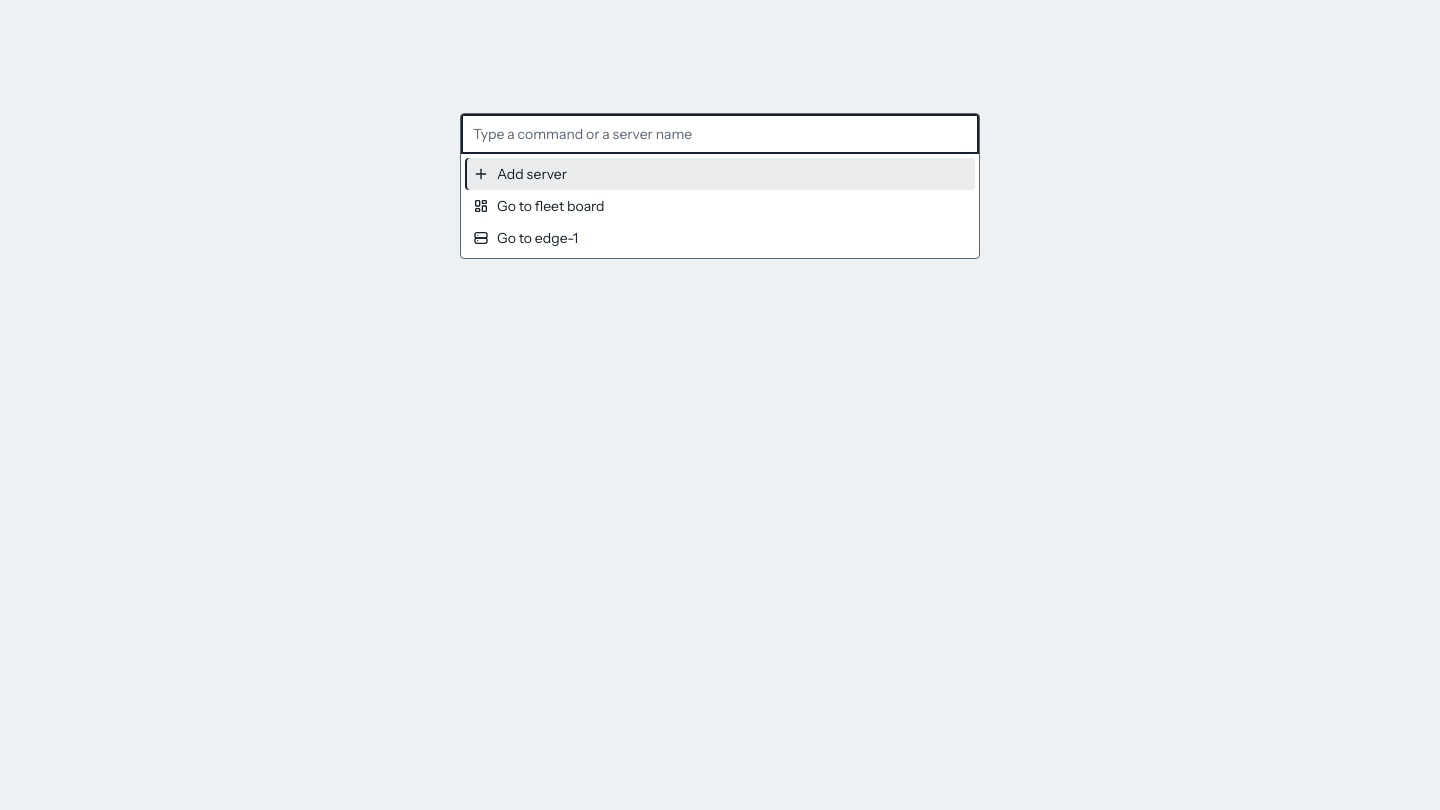
Test: CommandPalette › says so when nothing matches
In the dropdown: (720, 134) [461, 114, 979, 154], type "zzzz"
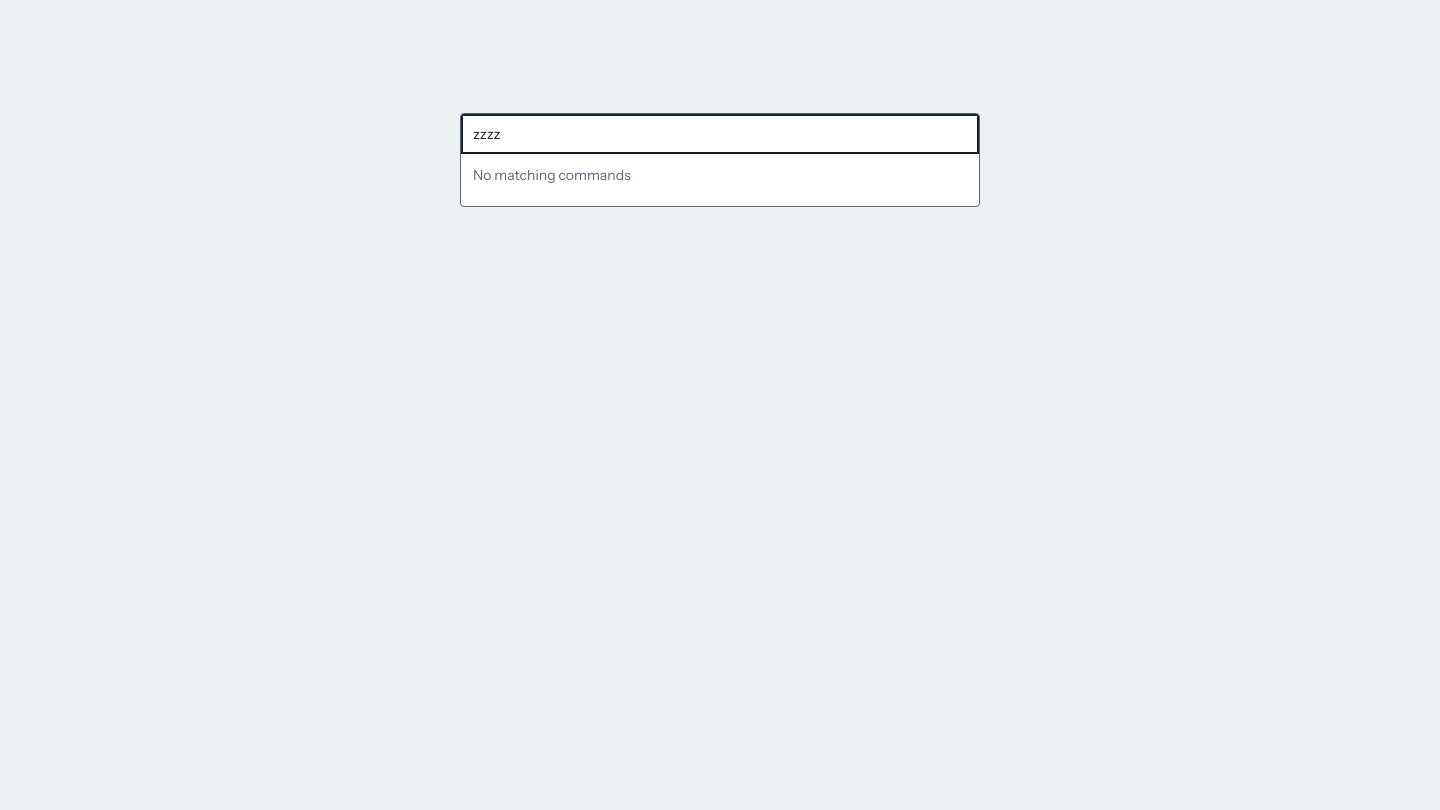
expect the text "No matching commands" is shown: met, box [473, 166, 631, 184]
